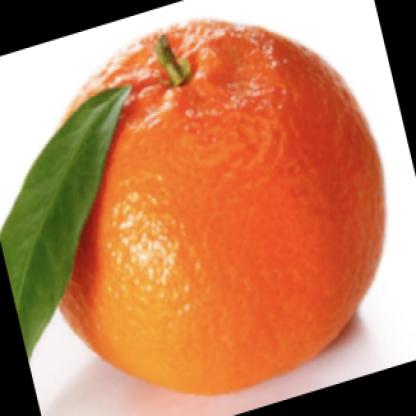orange: (29, 19, 392, 409)
